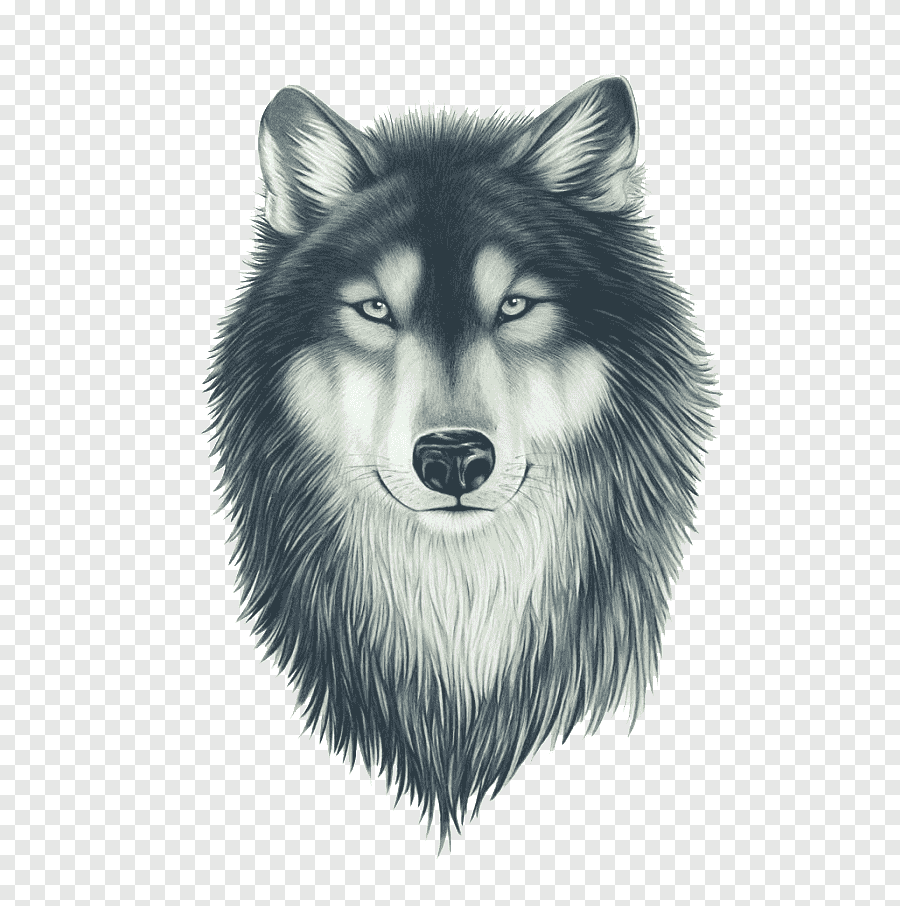Lobo: (189, 60, 716, 565)
